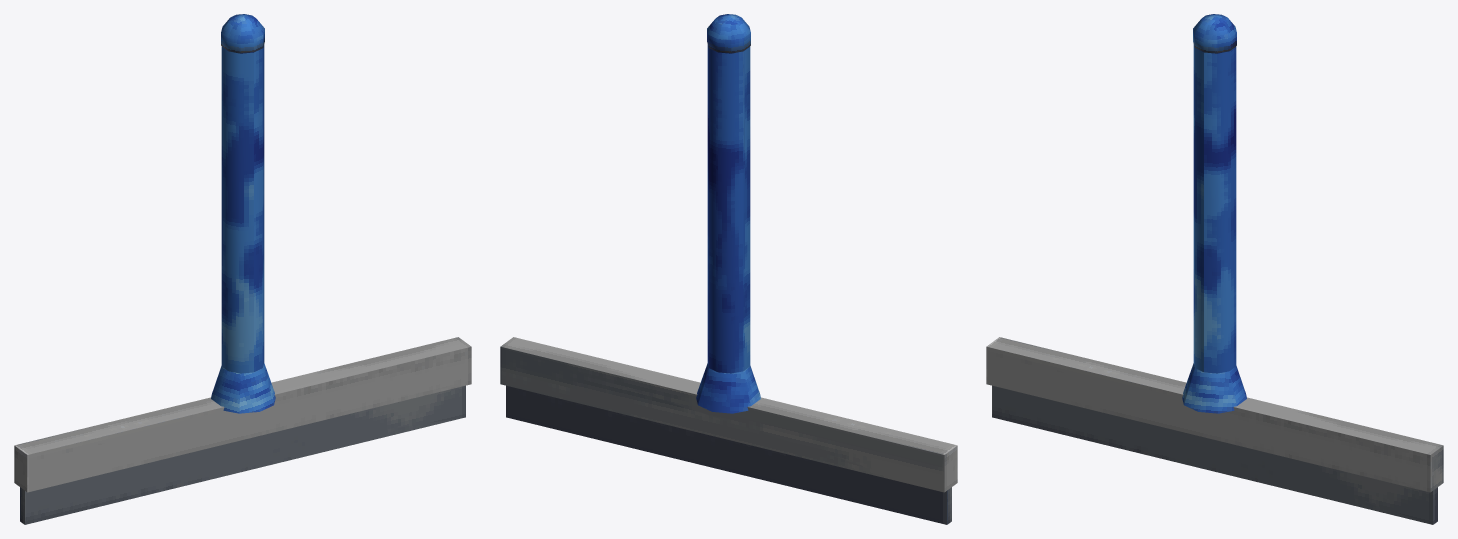
Rendered from squeegee_own.glb.
3 views of the same model, side by side, from view 1: azimuth 30°, elevation 25°; view 2: azimuth 150°, elevation 25°; view 3: azimuth 330°, elevation 25° (orthographic).
Parts seen in each view (by area): view 1: mesh; view 2: mesh; view 3: mesh.
Boxes of the visible parts, x1,y1,x2,y2 form: mesh: [14, 14, 471, 524]; mesh: [500, 14, 957, 524]; mesh: [986, 14, 1443, 524].
Bounding box in the file's own units: 0.2766 × 0.27 × 0.0366.
1 material, 1 textured.
